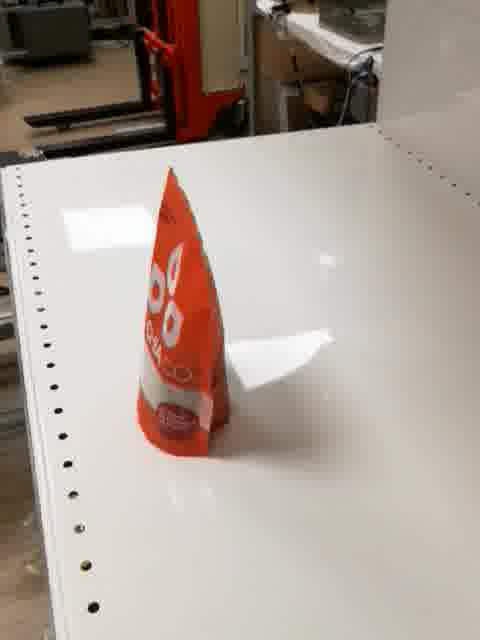whitechia: (128, 163, 233, 461)
